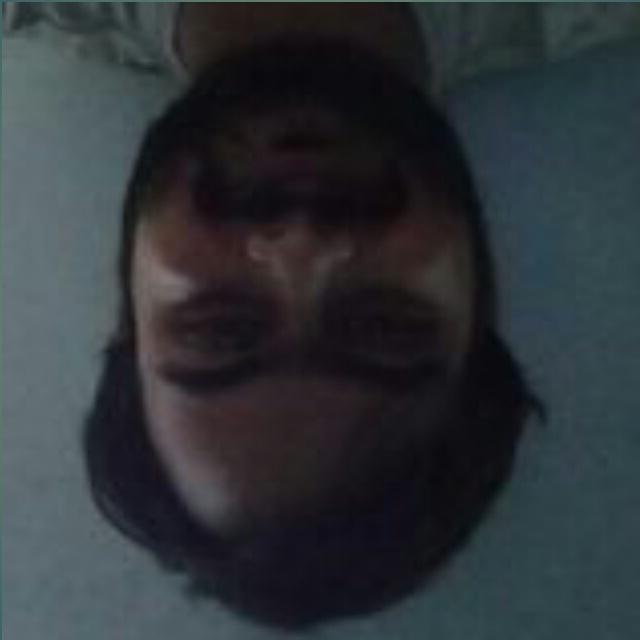Happy: (87, 35, 528, 526)
